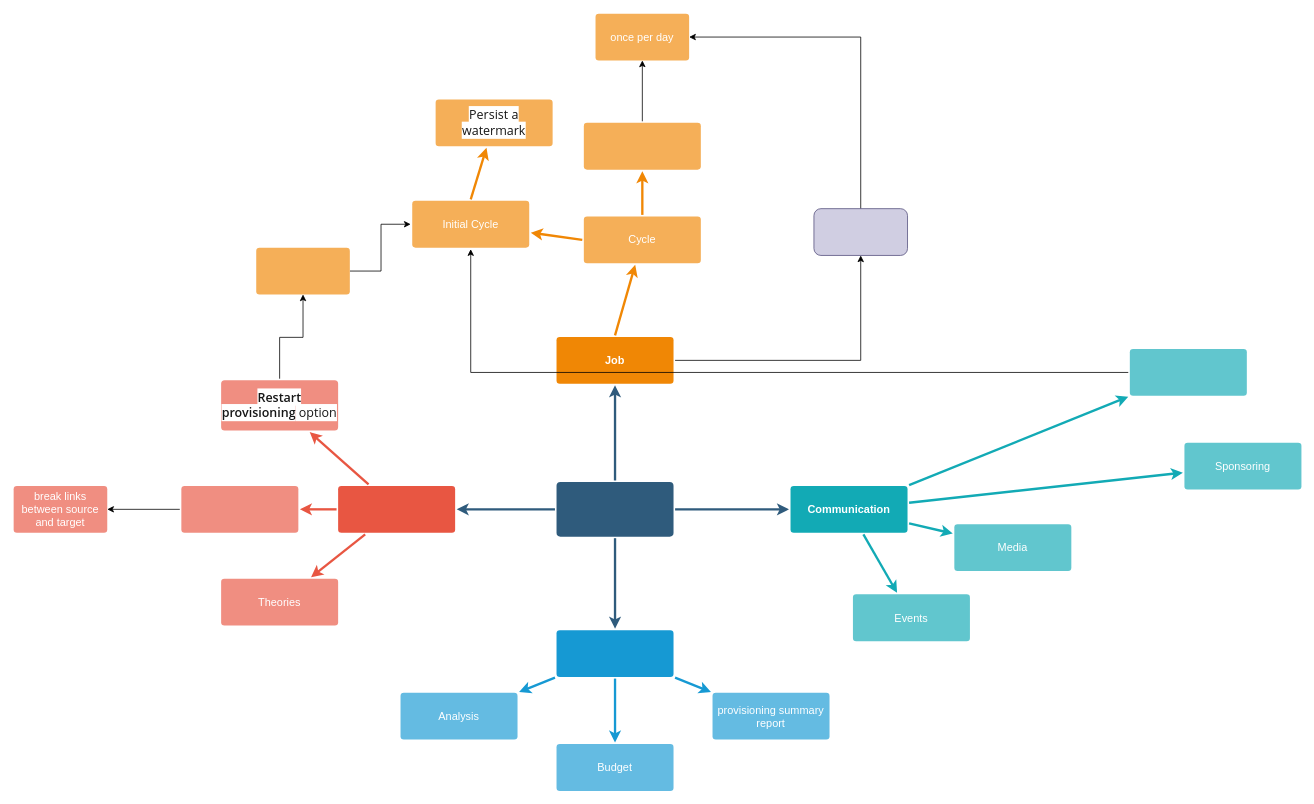
Some shapes in this 1314 by 804 pixel diagram are drawn without their labels. The centre of each missing label's shape, as x and y in pixels:
"a change in attribute mappings or scoping filters" belongs at [1187,372].
"clears any stored watermark" belongs at [302,270].
"Graph API" belongs at [396,509].
"Incremental Cycle" belongs at [641,145].
"provisioning logs" belongs at [614,653].
"Quarantine" belongs at [860,231].
"Restart synchronizationJob" belongs at [239,509].
"User Provisioning" belongs at [614,509].
